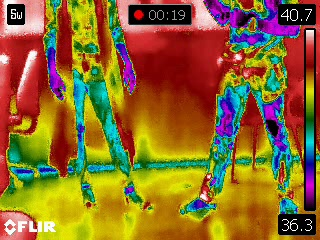human: (180, 1, 299, 218), (36, 1, 157, 212)
